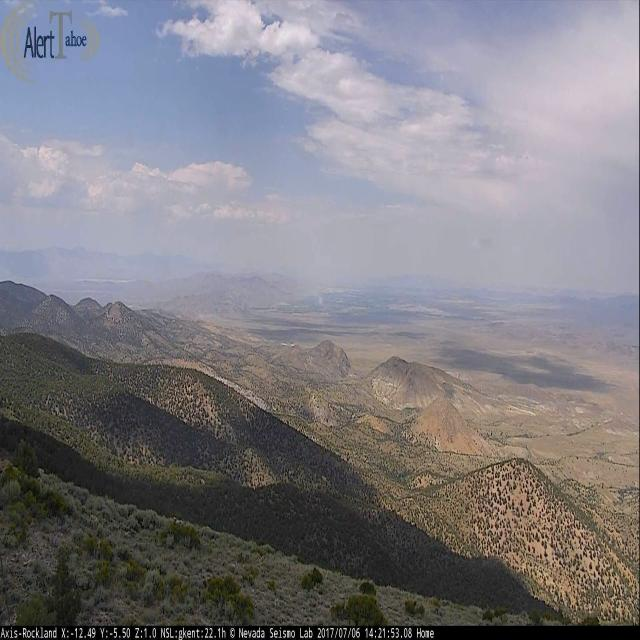smoke: (316, 293, 325, 307)
